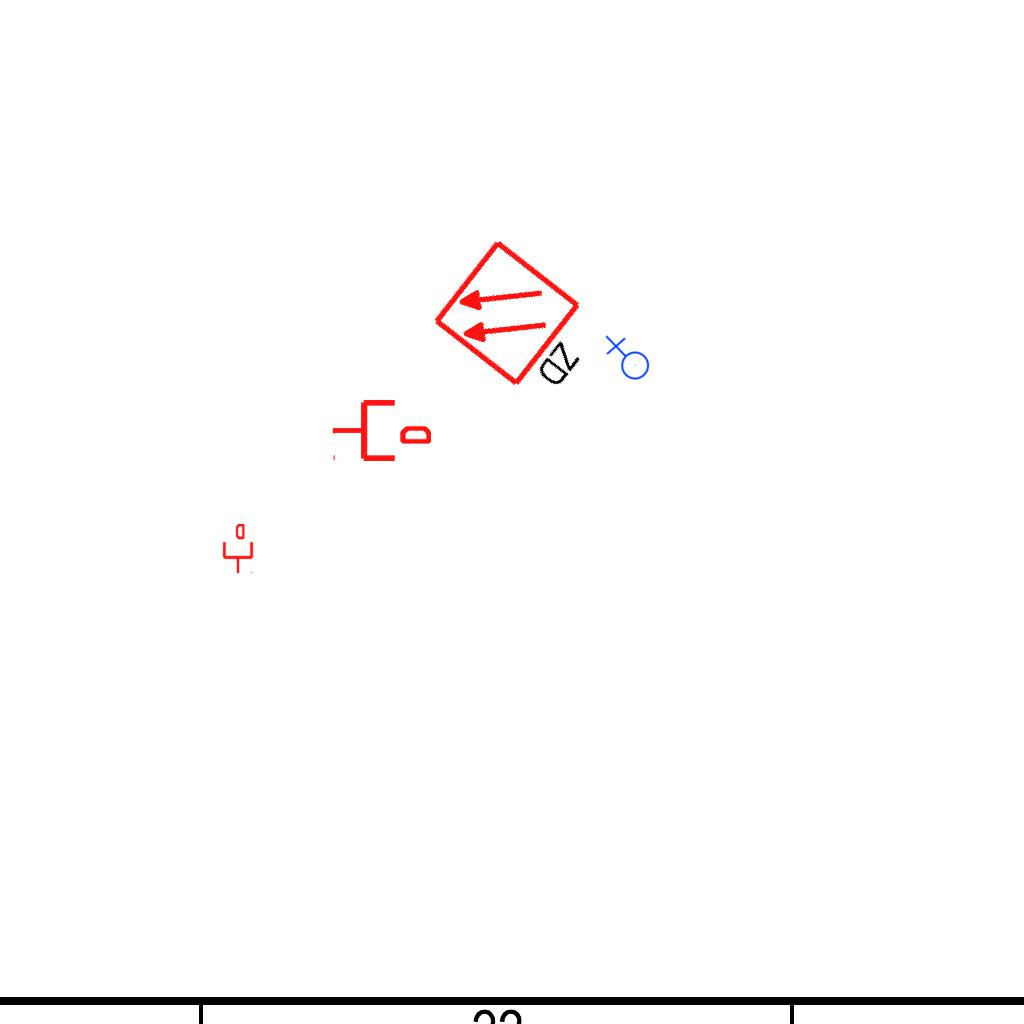Datenanschluss_einfach: (331, 396, 431, 465), (221, 524, 255, 574)
Elektroanschluss_allgemein_230V_Geraeteanschlussdose_230V: (603, 335, 650, 384)
ZD_Melder_in_Zwischendecke_mit_Revisionsoeffnung_mind_40_x_40_cm: (429, 232, 617, 415)
